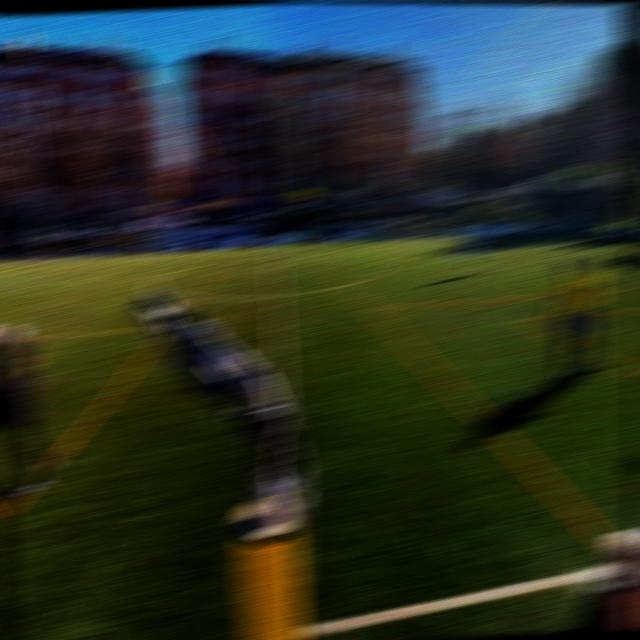halfcircle_bottom: (267, 289, 288, 305)
halfcircle_top: (266, 254, 284, 263)
midline_top_intersection: (267, 244, 281, 248)
